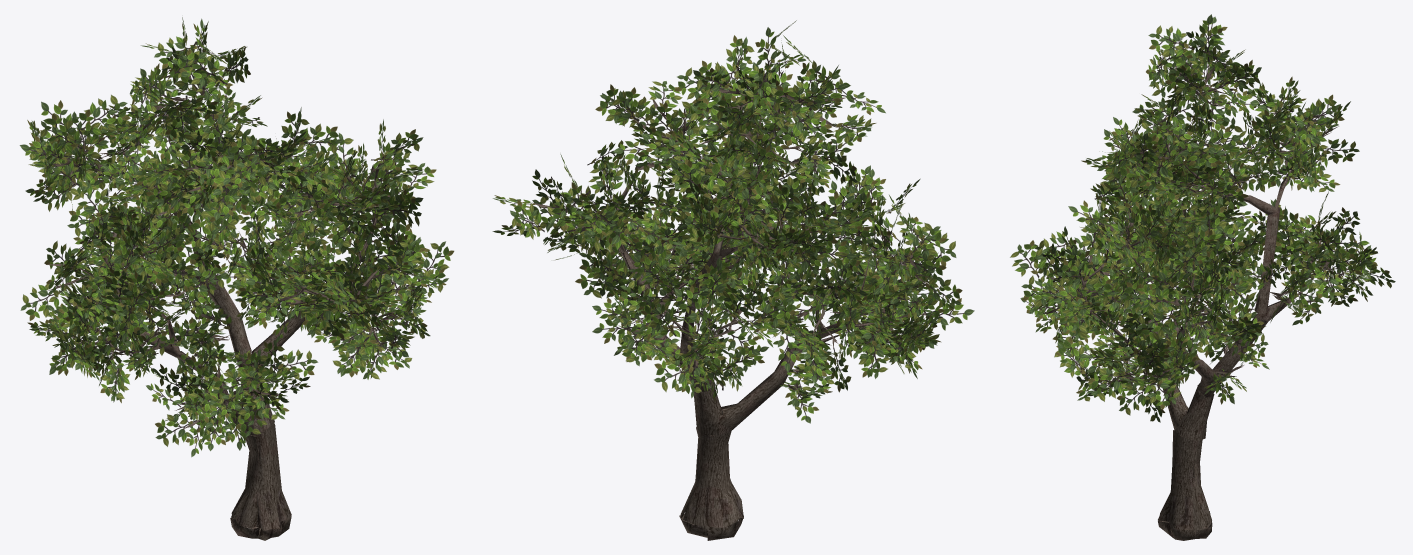
The model's file is linden.glb.
3 renders of one model, left to right at view 1: azimuth 30°, elevation 25°; view 2: azimuth 150°, elevation 25°; view 3: azimuth 270°, elevation 25°, orthographic. The views are drawn at different scales.
Visible parts, largest first — view 1: leaves, bark; view 2: leaves, bark; view 3: leaves, bark.
Part boxes in pixels (x1,y1,x2,y2): leaves: (19,17,454,457); bark: (46,63,408,540); leaves: (492,20,974,423); bark: (532,59,935,540); leaves: (1010,14,1395,422); bark: (1044,61,1349,540).
Bounding box in the file's own units: 14.34 × 16.31 × 11.87.
Materials: 2 (2 with a texture image).
